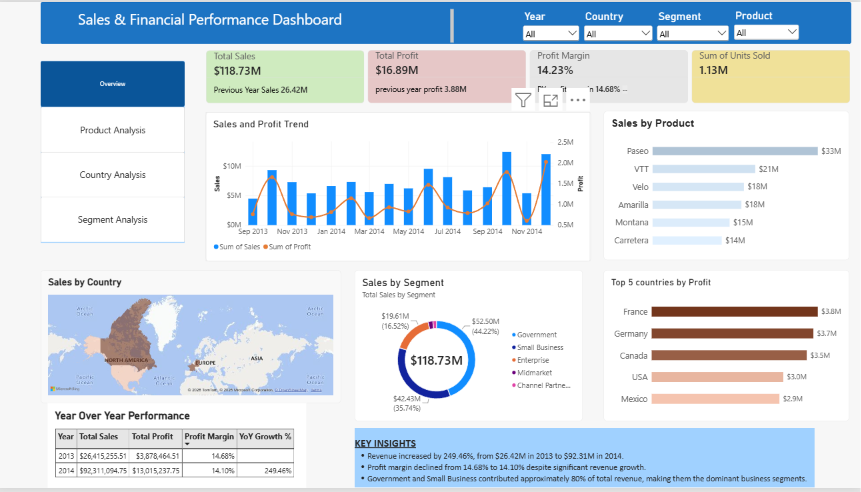

The dashboard page shown, as its layout file describes it:
{"tool":"powerbi","page":{"name":"Overview","canvas":[1920,1080],"ordinal":0},"visuals":[{"type":"clusteredBarChart","title":"Sales by Product","fields":{"Category":["financials.Product"],"Y":["Sum(financials.Sales)"]},"box":[1349.2,243,545.1,331.6],"z":0},{"type":"clusteredBarChart","title":"Top 5 countries by Profit","fields":{"Category":["financials.Country"],"Y":["financials.Total Profit"]},"box":[1349.2,595.1,545.1,336.2],"z":1000},{"type":"cardVisual","fields":{"Data":["financials.Total Sales","financials.Total Profit","financials.Profit Margin","Sum(financials.Units Sold)"]},"box":[463.3,106.8,1435.5,118.1],"z":2000},{"type":"filledMap","title":"Sales by Country","fields":{"Category":["financials.Country"]},"box":[97.7,595.1,667.1,296],"z":3000},{"type":"donutChart","title":"Sales by Segment","fields":{"Category":["financials.Segment"],"Y":["financials.Total Sales"]},"box":[795,595.1,506.5,336.2],"z":4000},{"type":"tableEx","title":"Year Over Year Performance","fields":{"Values":["Date.Date.Variation.Date Hierarchy.Year","financials.Total Sales","financials.Total Profit","financials.Profit Margin","financials.YoY Growth %"]},"box":[113.6,890.4,574.6,188.5],"z":5000},{"type":"lineStackedColumnComboChart","title":"Sales and Profit Trend","fields":{"Category":["financials.Date"],"Y":["Sum(financials.Sales)"],"Y2":["Sum(financials.Profit)"]},"box":[463.3,243.3,856.7,331.7],"z":6000},{"type":"textbox","box":[484.3,136,276.8,76.3],"z":7000},{"type":"textbox","box":[114.5,0,369.8,59.6],"z":8000},{"type":"shape","box":[97.7,0,1801.1,93.1],"z":9000},{"type":"textbox","box":[179.4,15.9,835.8,77.2],"z":10000},{"type":"textbox","box":[1513,873,360,177],"z":11000},{"type":"slicer","fields":{"Values":["financials.Year"]},"box":[1165,16.7,135,73.3],"z":12000},{"type":"slicer","fields":{"Values":["financials.Country"]},"box":[1300.3,16.7,162.2,74],"z":13000},{"type":"slicer","fields":{"Values":["financials.Segment"]},"box":[1462.6,16.7,169.4,116.9],"z":14000},{"type":"slicer","fields":{"Values":["financials.Product"]},"box":[1633.1,15.9,154.4,81.8],"z":15000},{"type":"pageNavigator","box":[97.9,132,320.3,404.3],"z":16000},{"type":"textbox","box":[48.3,666.7,1050,96.7],"z":16001},{"type":"textbox","box":[795,946.7,1021.7,131.7],"z":16002}]}

Visuals, with their boxes on the page's 1920x1080 design canvas (x1, y1, x2, y2). These are canvas units, not pixel positions in the 861x492 screenshot, which may show the page scaled, cropped or inside an application window:
"Sales by Product" clusteredBarChart: select_region(1349, 243, 1894, 575)
"Top 5 countries by Profit" clusteredBarChart: select_region(1349, 595, 1894, 931)
cardVisual - financials.Total Sales x financials.Total Profit: select_region(463, 107, 1899, 225)
"Sales by Country" filledMap: select_region(98, 595, 765, 891)
"Sales by Segment" donutChart: select_region(795, 595, 1302, 931)
"Year Over Year Performance" tableEx: select_region(114, 890, 688, 1079)
"Sales and Profit Trend" lineStackedColumnComboChart: select_region(463, 243, 1320, 575)
textbox: select_region(484, 136, 761, 212)
textbox: select_region(114, 0, 484, 60)
shape: select_region(98, 0, 1899, 93)
textbox: select_region(179, 16, 1015, 93)
textbox: select_region(1513, 873, 1873, 1050)
slicer - financials.Year: select_region(1165, 17, 1300, 90)
slicer - financials.Country: select_region(1300, 17, 1462, 91)
slicer - financials.Segment: select_region(1463, 17, 1632, 134)
slicer - financials.Product: select_region(1633, 16, 1788, 98)
pageNavigator: select_region(98, 132, 418, 536)
textbox: select_region(48, 667, 1098, 763)
textbox: select_region(795, 947, 1817, 1078)
